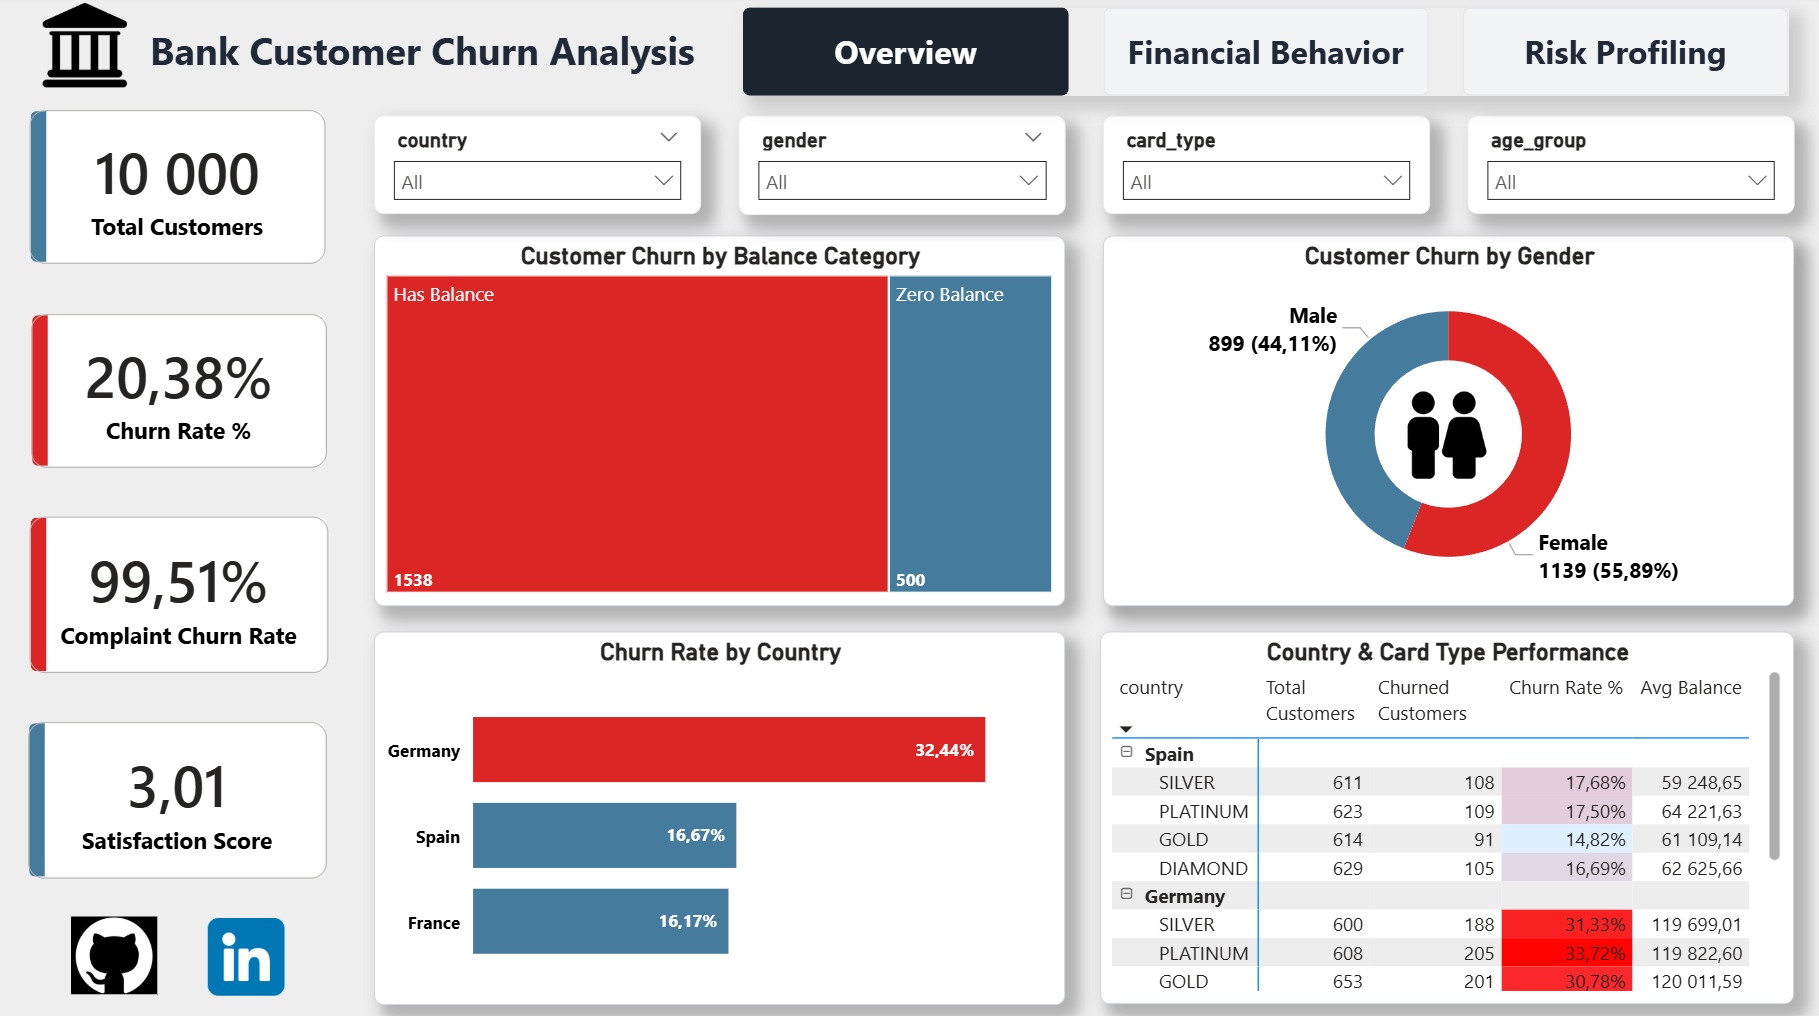

What the dashboard file says about the page in this screenshot:
{"tool":"powerbi","page":{"name":"Overview","canvas":[1280,720],"ordinal":0},"visuals":[{"type":"treemap","title":"Customer Churn by Balance Category","fields":{"Values":["Measures (2).Churned Customers"],"Group":["dim_customer.balance_category"]},"box":[263.7,169.8,486.2,260.5],"z":0},{"type":"clusteredBarChart","title":"Churn Rate by Country","fields":{"Category":["dim_geography.country"],"Y":["Measures (2).Churn Rate %"]},"box":[263.7,448.2,486.2,262.6],"z":1000},{"type":"pivotTable","title":"Country & Card Type Performance","fields":{"Rows":["dim_geography.country","dim_cardtype.card_type"],"Values":["Measures (2).Total Customers","Measures (2).Churned Customers","Measures (2).Churn Rate %","Measures (2).Avg Balance"]},"box":[774.5,448.3,488.2,262.2],"z":2000},{"type":"donutChart","title":"Customer Churn by Gender","fields":{"Y":["Measures (2).Churned Customers"],"Category":["dim_customer.gender"]},"box":[776.3,169.8,486.2,260.5],"z":3000},{"type":"slicer","fields":{"Values":["dim_geography.country"]},"box":[263.7,85.4,229.9,69.6],"z":4000},{"type":"slicer","fields":{"Values":["dim_customer.gender"]},"box":[519.9,85,230,70.1],"z":5000},{"type":"slicer","fields":{"Values":["dim_cardtype.card_type"]},"box":[776.3,85.4,229.9,69.6],"z":6000},{"type":"slicer","fields":{"Values":["dim_customer.age_group"]},"box":[1032.6,85.4,229.9,69.6],"z":7000},{"type":"textbox","box":[101.5,15.7,400,55.6],"z":8000},{"type":"image","box":[50.7,648.9,60.4,54.4],"z":9000},{"type":"image","box":[143.8,650.1,60.4,54.4],"z":10000},{"type":"pageNavigator","box":[522.9,9.6,735,62],"z":11000},{"type":"cardVisual","fields":{"Data":["Measures (2).Total Customers"]},"box":[4.4,64.8,242.9,142.6],"z":12000},{"type":"cardVisual","fields":{"Data":["Measures (2).Churn Rate %"]},"box":[5.6,207.4,242.9,142.6],"z":13000},{"type":"cardVisual","fields":{"Data":["Measures (2).Complaint Churn Rate %"]},"box":[4.4,350,244.1,145],"z":14000},{"type":"cardVisual","fields":{"Data":["Avg(fact_churn.satisfaction_score)"]},"box":[3.2,495,244.1,145],"z":15000},{"type":"image","box":[973.9,279.1,89.4,61.6],"z":16000},{"type":"image","box":[20.5,6,81,59.2],"z":17000}]}

Visuals, with their boxes in screenshot pixels (x1, y1, x2, y2), scaled from the page's 1280x720 canvas onto the 1819x1016 screenshot:
"Customer Churn by Balance Category" treemap: box(375, 240, 1066, 607)
"Churn Rate by Country" clusteredBarChart: box(375, 632, 1066, 1003)
"Country & Card Type Performance" pivotTable: box(1101, 633, 1794, 1003)
"Customer Churn by Gender" donutChart: box(1103, 240, 1794, 607)
slicer - dim_geography.country: box(375, 121, 701, 219)
slicer - dim_customer.gender: box(739, 120, 1066, 219)
slicer - dim_cardtype.card_type: box(1103, 121, 1430, 219)
slicer - dim_customer.age_group: box(1467, 121, 1794, 219)
textbox: box(144, 22, 713, 101)
image: box(72, 916, 158, 992)
image: box(204, 917, 290, 994)
pageNavigator: box(743, 14, 1788, 101)
cardVisual - Measures (2).Total Customers: box(6, 91, 351, 293)
cardVisual - Measures (2).Churn Rate %: box(8, 293, 353, 494)
cardVisual - Measures (2).Complaint Churn Rate %: box(6, 494, 353, 698)
cardVisual - Avg(fact_churn.satisfaction_score): box(5, 698, 351, 903)
image: box(1384, 394, 1511, 481)
image: box(29, 8, 144, 92)
